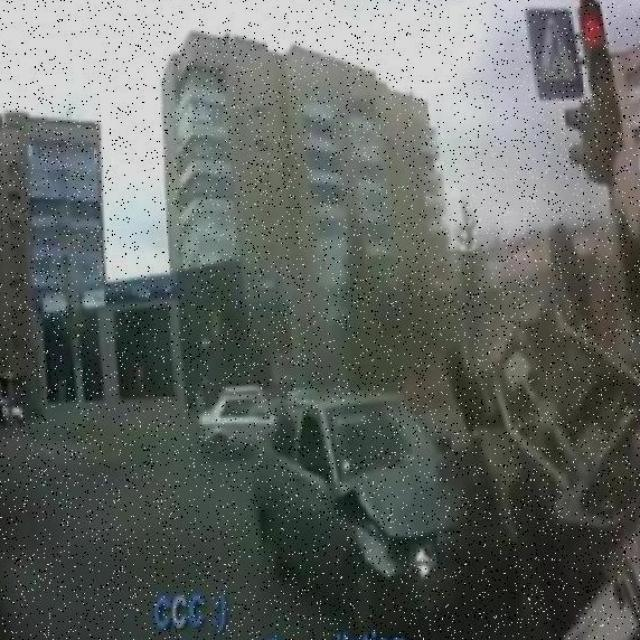accident: (351, 333, 640, 635)
